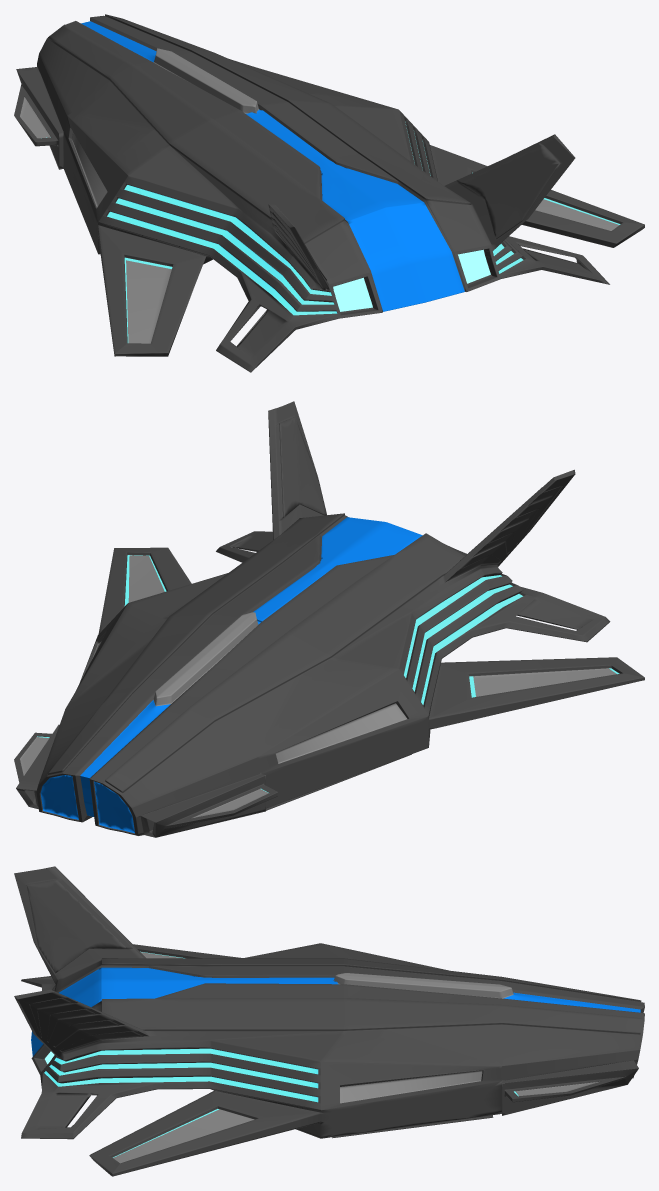
3 views of the same model, one above another, from view 1: azimuth 30°, elevation 25°; view 2: azimuth 150°, elevation 25°; view 3: azimuth 270°, elevation 25° (orthographic). The views are drawn at different scales.
Parts seen in each view (by area): view 1: newss; view 2: newss; view 3: newss.
Part boxes in pixels (x1,y1,x2,y2): newss: (14, 14, 644, 372); newss: (14, 401, 644, 837); newss: (14, 866, 644, 1176).
Bounding box in the file's own units: 5.19 × 1.63 × 5.96.
